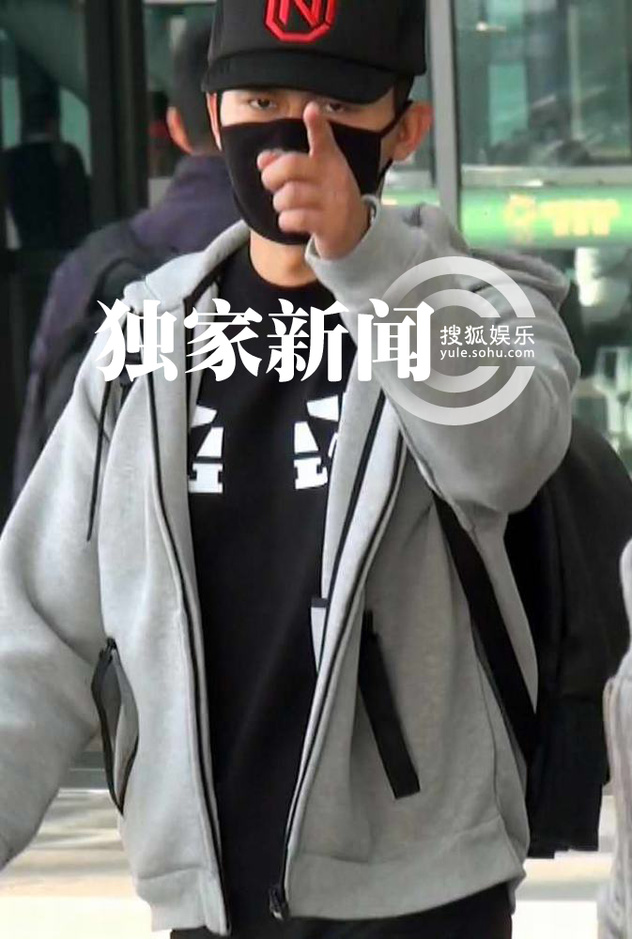face_mask: (220, 7, 384, 246)
